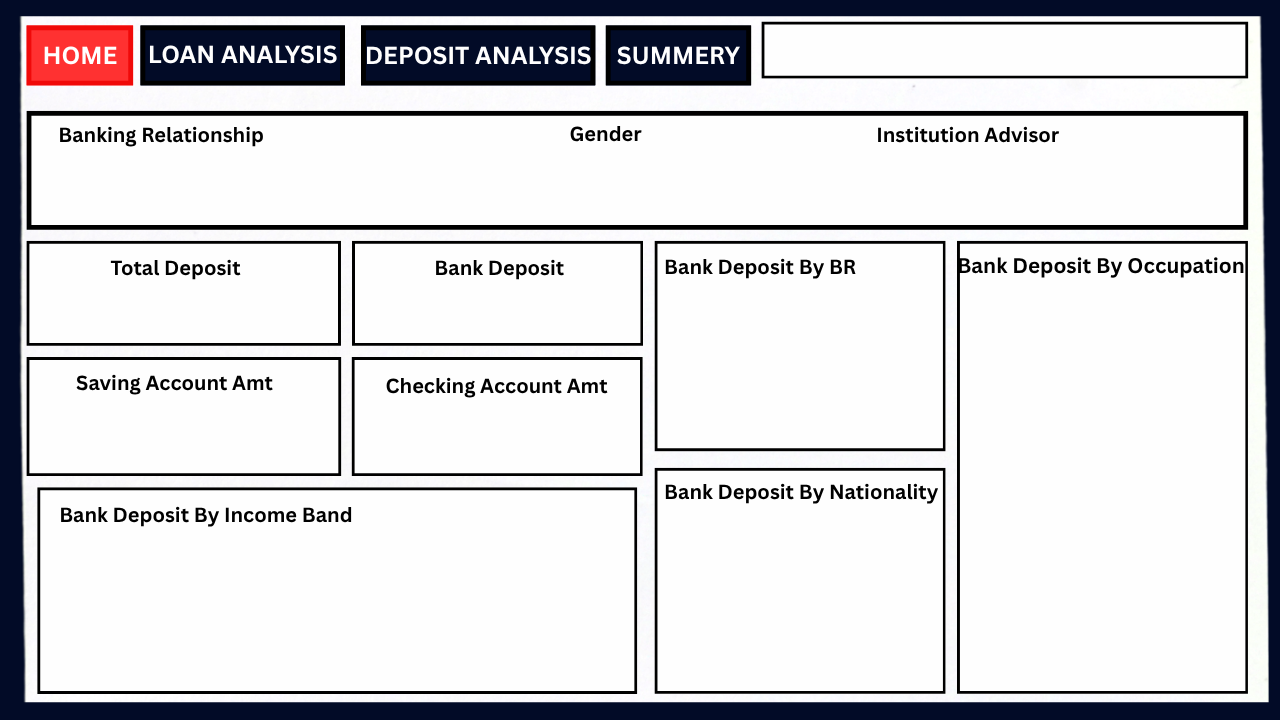

What the dashboard file says about the page in this screenshot:
{"tool":"powerbi","page":{"name":" Deposit analysis","canvas":[1920,1080],"ordinal":3},"visuals":[{"type":"slicer","fields":{"Values":["date.Joined Bank"]},"box":[1158.2,47.1,678.6,57.9],"z":0},{"type":"actionButton","box":[54.3,47.1,128.5,70.6],"z":1000},{"type":"actionButton","box":[217.2,47.1,291.4,70.6],"z":2000},{"type":"actionButton","box":[546.5,48.9,340.2,70.6],"z":3000},{"type":"actionButton","box":[917.5,47.1,200.9,70.6],"z":4000},{"type":"cardVisual","fields":{"Data":["Sum(date.Bank Deposits)"]},"box":[146.6,389.1,302.2,150.2],"z":5000},{"type":"cardVisual","fields":{"Data":["Sum(date.Bank Deposits)"]},"box":[635.2,389.1,318.5,150.2],"z":6000},{"type":"cardVisual","fields":{"Data":["Sum(date.Saving Accounts)"]},"box":[115.8,561,318.5,150.2],"z":7000},{"type":"cardVisual","fields":{"Data":["Sum(date.Checking Accounts)"]},"box":[595.4,562.8,322.1,150.2],"z":8000},{"type":"donutChart","fields":{"Category":["date.Income Band"],"Y":["Sum(date.Bank Deposits)"]},"box":[153.8,756.4,653.3,323.9],"z":9000},{"type":"clusteredColumnChart","fields":{"Category":["date.BRId"],"Y":["Sum(date.Bank Deposits)"]},"box":[995.3,418,412.6,242.5],"z":10000},{"type":"clusteredBarChart","fields":{"Category":["date.Nationality"],"Y":["Sum(date.Bank Deposits)"]},"box":[982.6,769.1,412.6,260.6],"z":11000},{"type":"clusteredBarChart","fields":{"Category":["date.Occupation"],"Y":["Sum(date.Bank Deposits)"]},"box":[1442.3,428.9,412.6,618.9],"z":12000},{"type":"slicer","fields":{"Values":["date.BRId"]},"box":[39.8,253.4,789,74.2],"z":13000},{"type":"slicer","fields":{"Values":["date.GenderId"]},"box":[828.8,253.4,421.7,74.2],"z":14000},{"type":"slicer","fields":{"Values":["date.IAId"]},"box":[1250.5,253.4,604.4,88.7],"z":15000}]}

Visuals, with their boxes in screenshot pixels (x1, y1, x2, y2), scaled from the page's 1920x1080 canvas onto the 1280x720 screenshot:
slicer - date.Joined Bank: x1=772 y1=31 x2=1225 y2=70
actionButton: x1=36 y1=31 x2=122 y2=78
actionButton: x1=145 y1=31 x2=339 y2=78
actionButton: x1=364 y1=33 x2=591 y2=80
actionButton: x1=612 y1=31 x2=746 y2=78
cardVisual - Sum(date.Bank Deposits): x1=98 y1=259 x2=299 y2=360
cardVisual - Sum(date.Bank Deposits): x1=423 y1=259 x2=636 y2=360
cardVisual - Sum(date.Saving Accounts): x1=77 y1=374 x2=290 y2=474
cardVisual - Sum(date.Checking Accounts): x1=397 y1=375 x2=612 y2=475
donutChart - date.Income Band x Sum(date.Bank Deposits): x1=103 y1=504 x2=538 y2=719
clusteredColumnChart - date.BRId x Sum(date.Bank Deposits): x1=664 y1=279 x2=939 y2=440
clusteredBarChart - date.Nationality x Sum(date.Bank Deposits): x1=655 y1=513 x2=930 y2=686
clusteredBarChart - date.Occupation x Sum(date.Bank Deposits): x1=962 y1=286 x2=1237 y2=699
slicer - date.BRId: x1=27 y1=169 x2=553 y2=218
slicer - date.GenderId: x1=553 y1=169 x2=834 y2=218
slicer - date.IAId: x1=834 y1=169 x2=1237 y2=228
